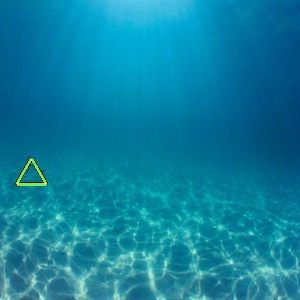triangle: (10, 155, 50, 188)
